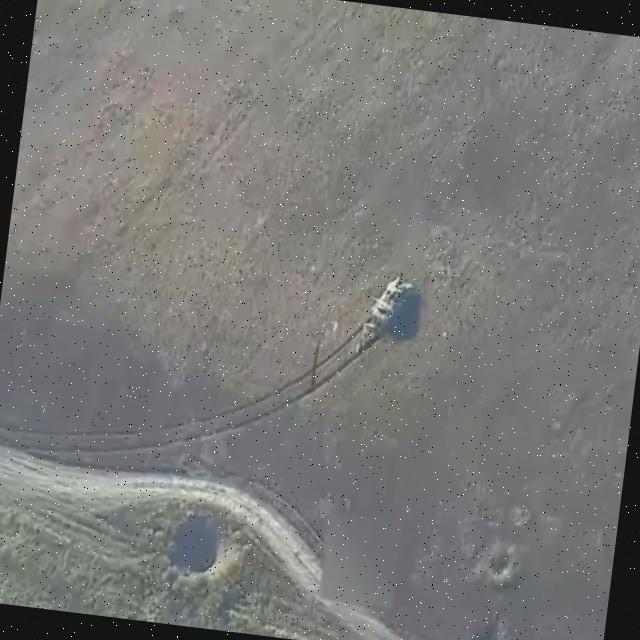MBT: (367, 262, 420, 331)
